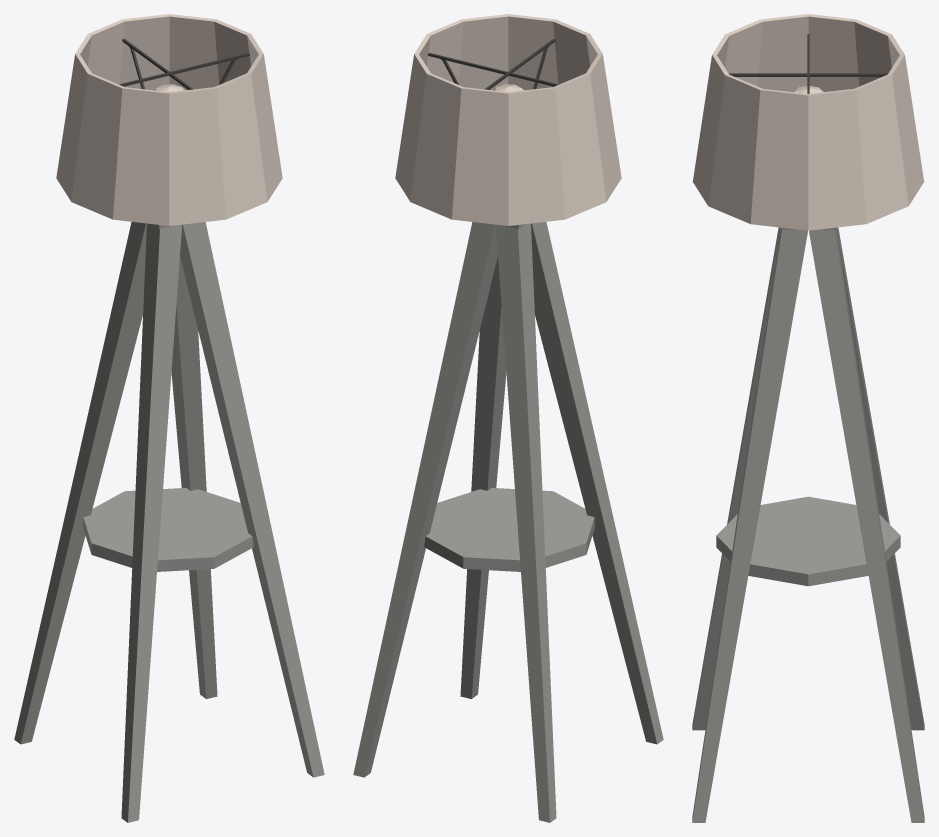
File: SM_Props_Interior_House_Room_Lamp_04.fbx
3 views of the same model, side by side, from view 1: azimuth 30°, elevation 25°; view 2: azimuth 150°, elevation 25°; view 3: azimuth 270°, elevation 25° (orthographic). The views are drawn at different scales.
Parts seen in each view (by area): view 1: SM_Props_Interior_House_Room_Lamp_04; view 2: SM_Props_Interior_House_Room_Lamp_04; view 3: SM_Props_Interior_House_Room_Lamp_04.
Part boxes in pixels (x1,y1,x2,y2): SM_Props_Interior_House_Room_Lamp_04: (14, 14, 324, 822); SM_Props_Interior_House_Room_Lamp_04: (353, 14, 663, 822); SM_Props_Interior_House_Room_Lamp_04: (692, 14, 924, 822).
Size of the model in its own units: 53 by 181 by 53.
